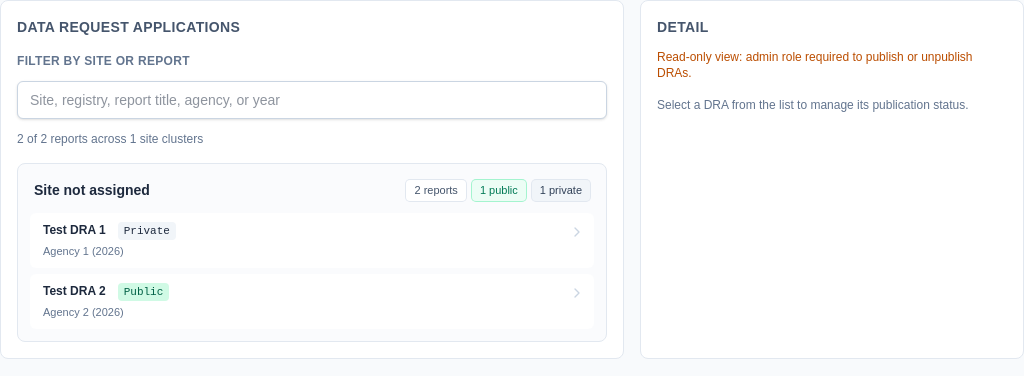
DraPublishControl › does not render publish/unpublish buttons when isAdmin is false
// Select a row to reveal details
Click the button with test id "dra-row-11111111-1111-4111-8111-111111111111".
click(74, 230)  # box [30,212,594,268]
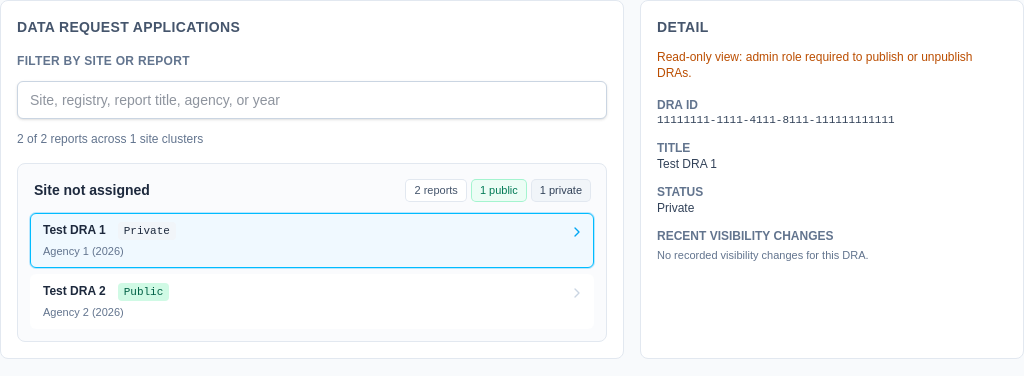
Expected: the message "No recorded visibility changes for this DRA." is shown, [657,249,868,261]
